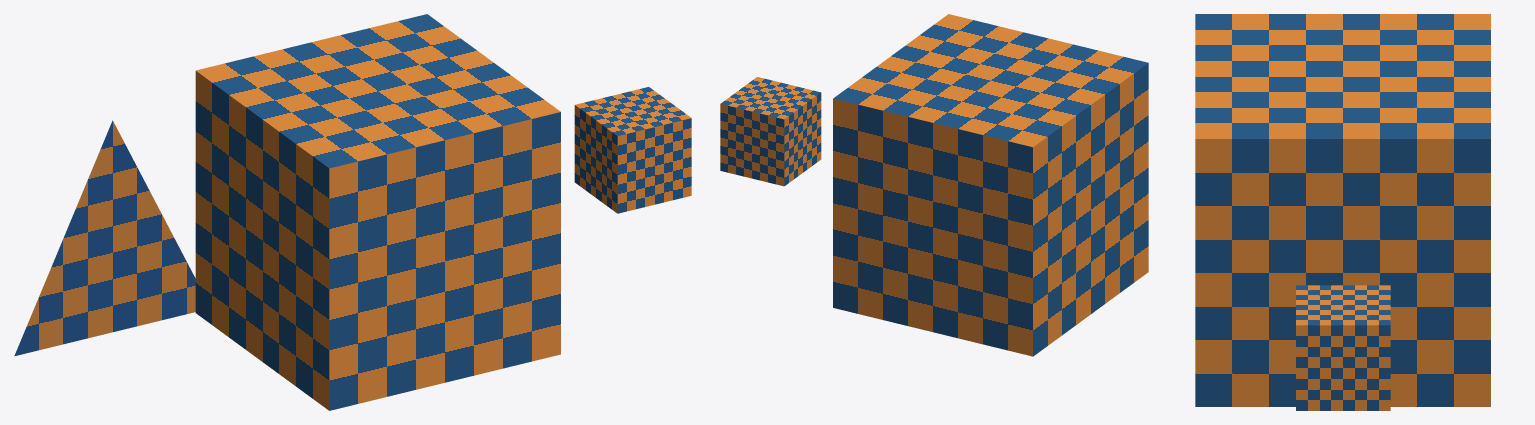
Rendered from demo.glb.
3 renders of one model, left to right at view 1: azimuth 30°, elevation 25°; view 2: azimuth 150°, elevation 25°; view 3: azimuth 270°, elevation 25°, orthographic. The views are drawn at different scales.
Parts seen in each view (by area): view 1: Cube, Triangle, Satellite; view 2: Cube, Satellite; view 3: Cube, Satellite.
Part boxes in pixels (<box>): Cube: <box>195,14,560,410</box>; Triangle: <box>14,120,195,356</box>; Satellite: <box>574,87,691,213</box>; Cube: <box>833,14,1148,356</box>; Satellite: <box>720,77,821,186</box>; Cube: <box>1195,14,1490,406</box>; Satellite: <box>1296,285,1390,410</box>.
Size of what is drawn, in the model's own units: 4.97 by 2.1 by 2.2.
2 materials, 2 textured.
